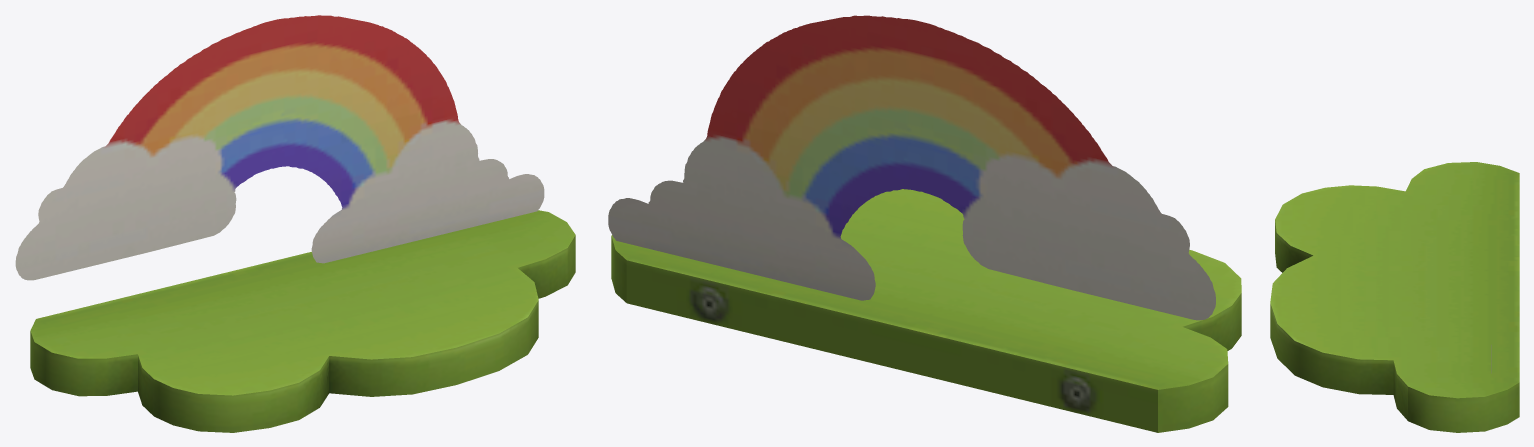
Rendered from estante2.fbx.
3 views of the same model, side by side, from view 1: azimuth 30°, elevation 25°; view 2: azimuth 150°, elevation 25°; view 3: azimuth 270°, elevation 25° (orthographic). The views are drawn at different scales.
Parts seen in each view (by area): view 1: s4studio_mesh_1; view 2: s4studio_mesh_1; view 3: s4studio_mesh_1.
Boxes of the visible parts, <box> form: s4studio_mesh_1: <box>15,15,575,432</box>; s4studio_mesh_1: <box>608,15,1241,432</box>; s4studio_mesh_1: <box>1270,162,1519,432</box>.
Bounding box in the file's own units: 75.16 × 39.55 × 32.78.
